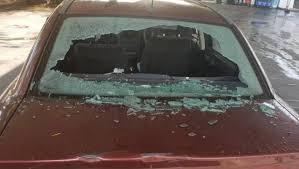Rear-windscreen-Damage: (20, 3, 283, 113)
